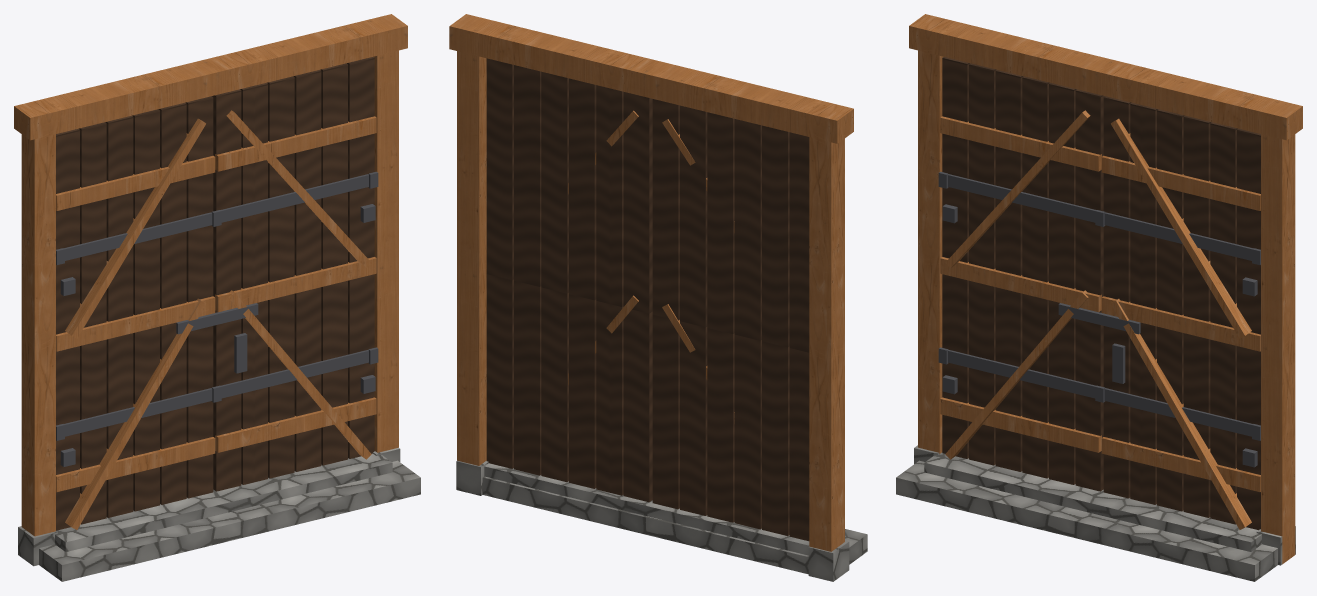
The model's file is opening_barn_door.glb.
3 renders of one model, left to right at view 1: azimuth 30°, elevation 25°; view 2: azimuth 150°, elevation 25°; view 3: azimuth 330°, elevation 25°, orthographic. The views are drawn at different scales.
Visible parts, largest first — view 1: opening_barn_door_0; view 2: opening_barn_door_0; view 3: opening_barn_door_0.
Boxes of the visible parts, <box> form: opening_barn_door_0: <box>14,14,420,581</box>; opening_barn_door_0: <box>449,14,867,581</box>; opening_barn_door_0: <box>896,14,1302,581</box>.
Bounding box in the file's own units: 2.82 × 3.21 × 0.5.
Materials: 4 (3 with a texture image).
